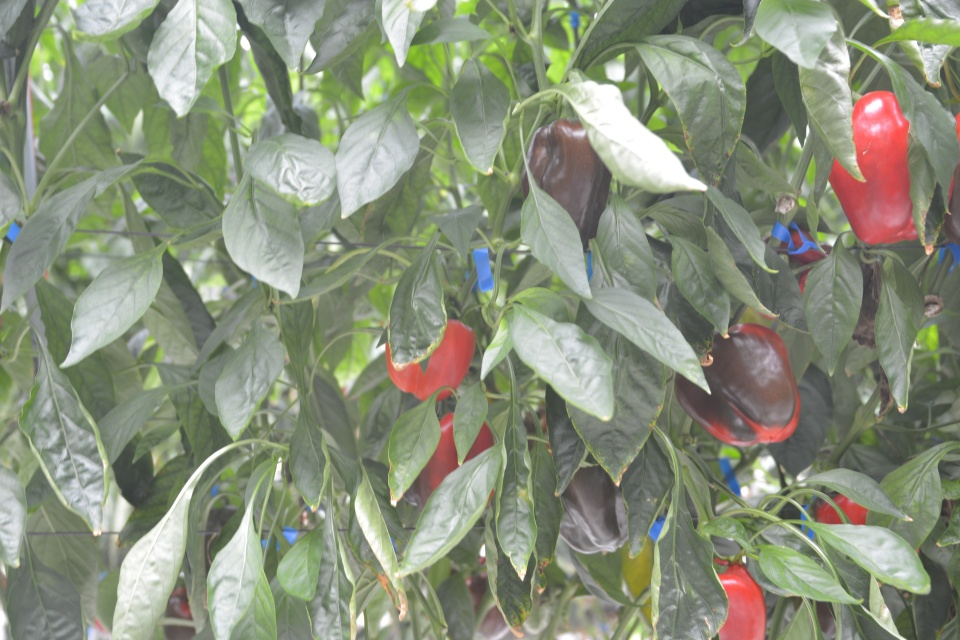fruit: (825, 88, 958, 248), (672, 320, 803, 448), (520, 114, 612, 254), (411, 407, 496, 512), (384, 316, 476, 402), (557, 451, 630, 555), (452, 553, 512, 640), (708, 555, 770, 638), (763, 225, 828, 295), (163, 583, 201, 640), (814, 491, 868, 528)
